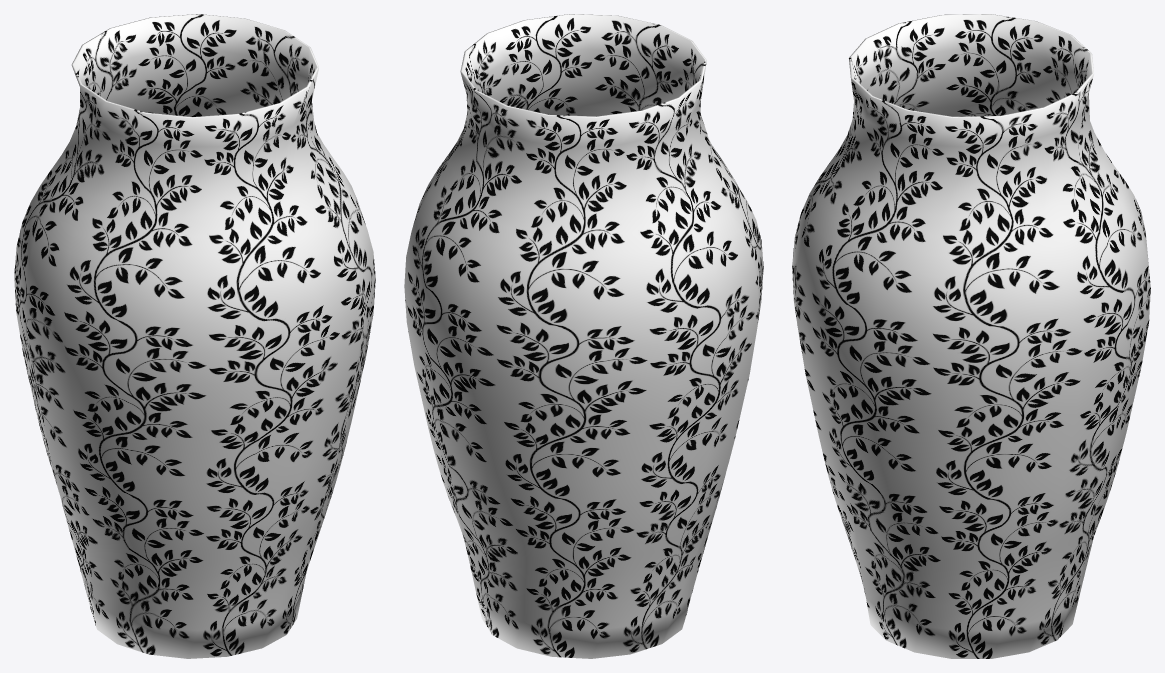
3 renders of one model, left to right at view 1: azimuth 30°, elevation 25°; view 2: azimuth 150°, elevation 25°; view 3: azimuth 270°, elevation 25°, orthographic.
Parts seen in each view (by area): view 1: S. vas.001; view 2: S. vas.001; view 3: S. vas.001.
Boxes of the visible parts, left/top/right/bottom form: S. vas.001: left=14, top=14, right=375, bottom=658; S. vas.001: left=404, top=14, right=763, bottom=658; S. vas.001: left=792, top=14, right=1150, bottom=658.
Size of the model in its own units: 150 by 255 by 150.
